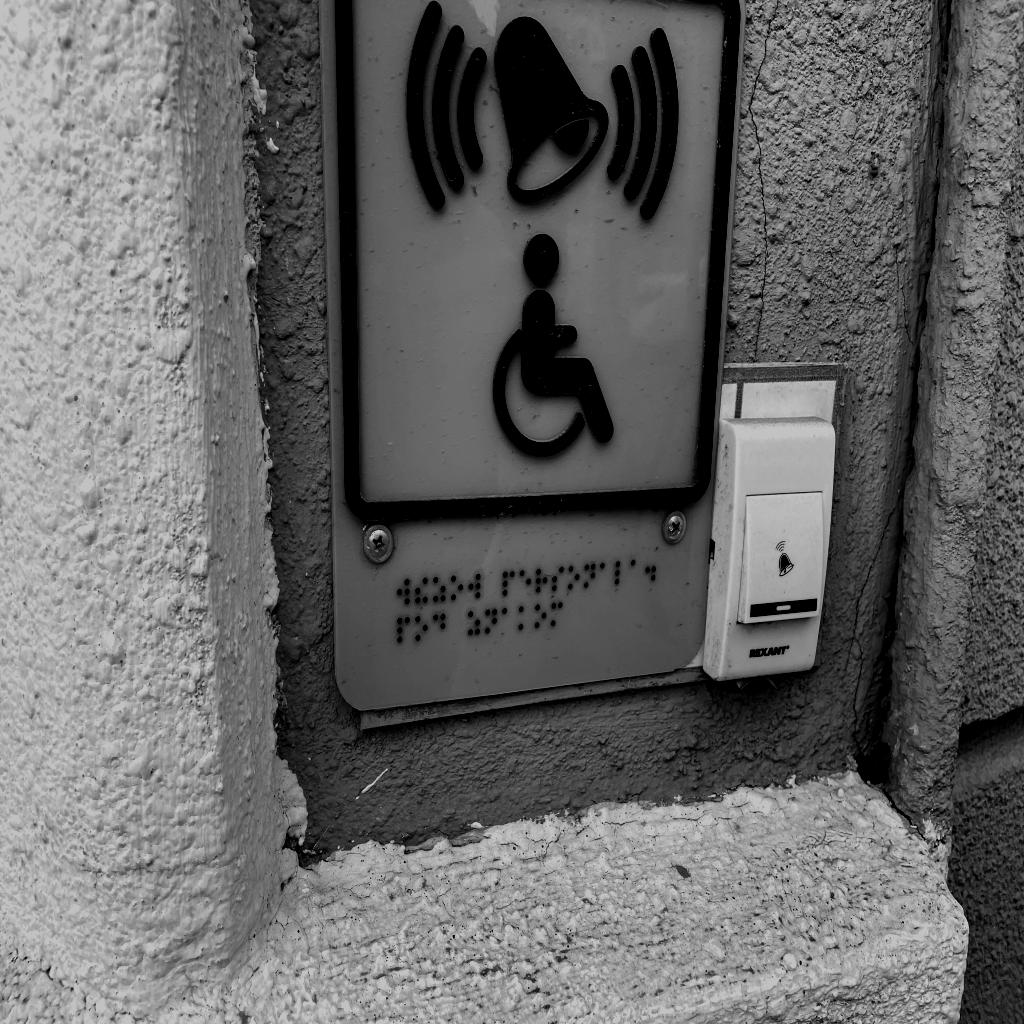_n: (485, 608, 498, 634), (584, 563, 596, 588)
a: (600, 562, 612, 586), (502, 607, 514, 631), (631, 559, 642, 583)
d: (433, 613, 446, 638)
e: (520, 569, 532, 595)
ii: (415, 577, 428, 604)
k: (519, 606, 531, 631)
l: (615, 561, 627, 585)
m: (551, 602, 563, 627)
o: (451, 575, 464, 601), (415, 615, 428, 641), (568, 565, 580, 590), (535, 604, 547, 628)
p: (502, 570, 515, 597), (397, 616, 410, 643)
r: (536, 568, 548, 593)
s: (552, 566, 564, 592)
tochka: (645, 558, 656, 581)
v: (397, 578, 410, 605), (468, 573, 481, 599)
z: (433, 576, 446, 603), (467, 611, 481, 635)
